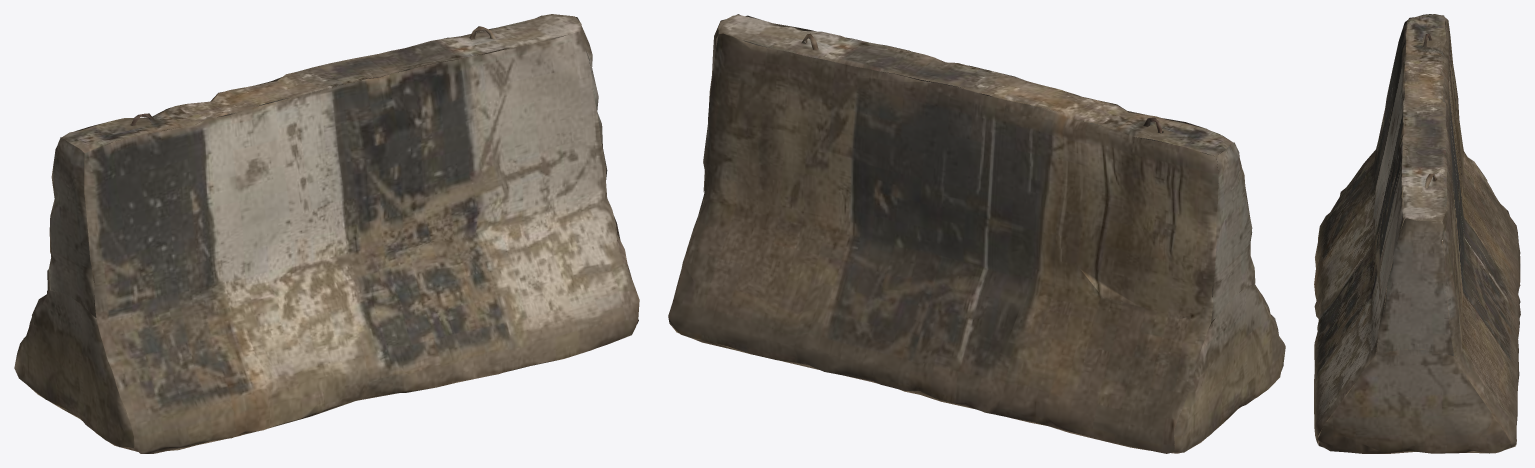
The model's file is ph_concrete_road_barrier.glb.
3 views of the same model, side by side, from view 1: azimuth 30°, elevation 25°; view 2: azimuth 150°, elevation 25°; view 3: azimuth 270°, elevation 25° (orthographic). The views are drawn at different scales.
Parts seen in each view (by area): view 1: concrete_road_barrier; view 2: concrete_road_barrier; view 3: concrete_road_barrier.
Boxes of the visible parts, bbox=[...] form: concrete_road_barrier: bbox=[14, 14, 639, 453]; concrete_road_barrier: bbox=[668, 14, 1285, 453]; concrete_road_barrier: bbox=[1314, 14, 1520, 453].
Size of the model in its own units: 1.55 by 0.8326 by 0.6335.
1 material, 1 textured.
